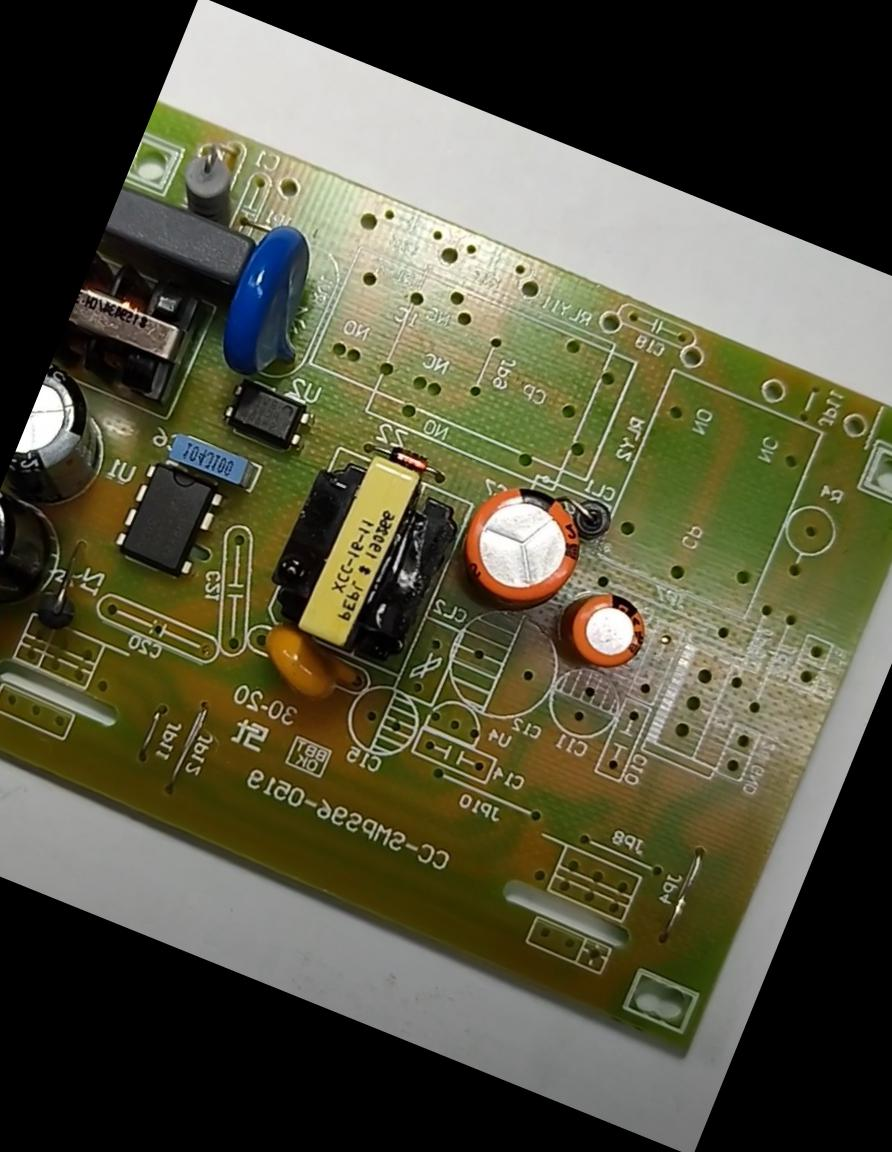Cap1: (439, 460, 601, 621)
Cap2: (551, 572, 667, 690)
Cap3: (3, 360, 139, 516)
Cap4: (0, 478, 89, 634)
MOSFET: (102, 448, 240, 593)
Mov: (199, 202, 355, 396)
Resistor: (166, 130, 270, 233)
Transformer: (250, 424, 474, 680), (51, 235, 221, 412)
